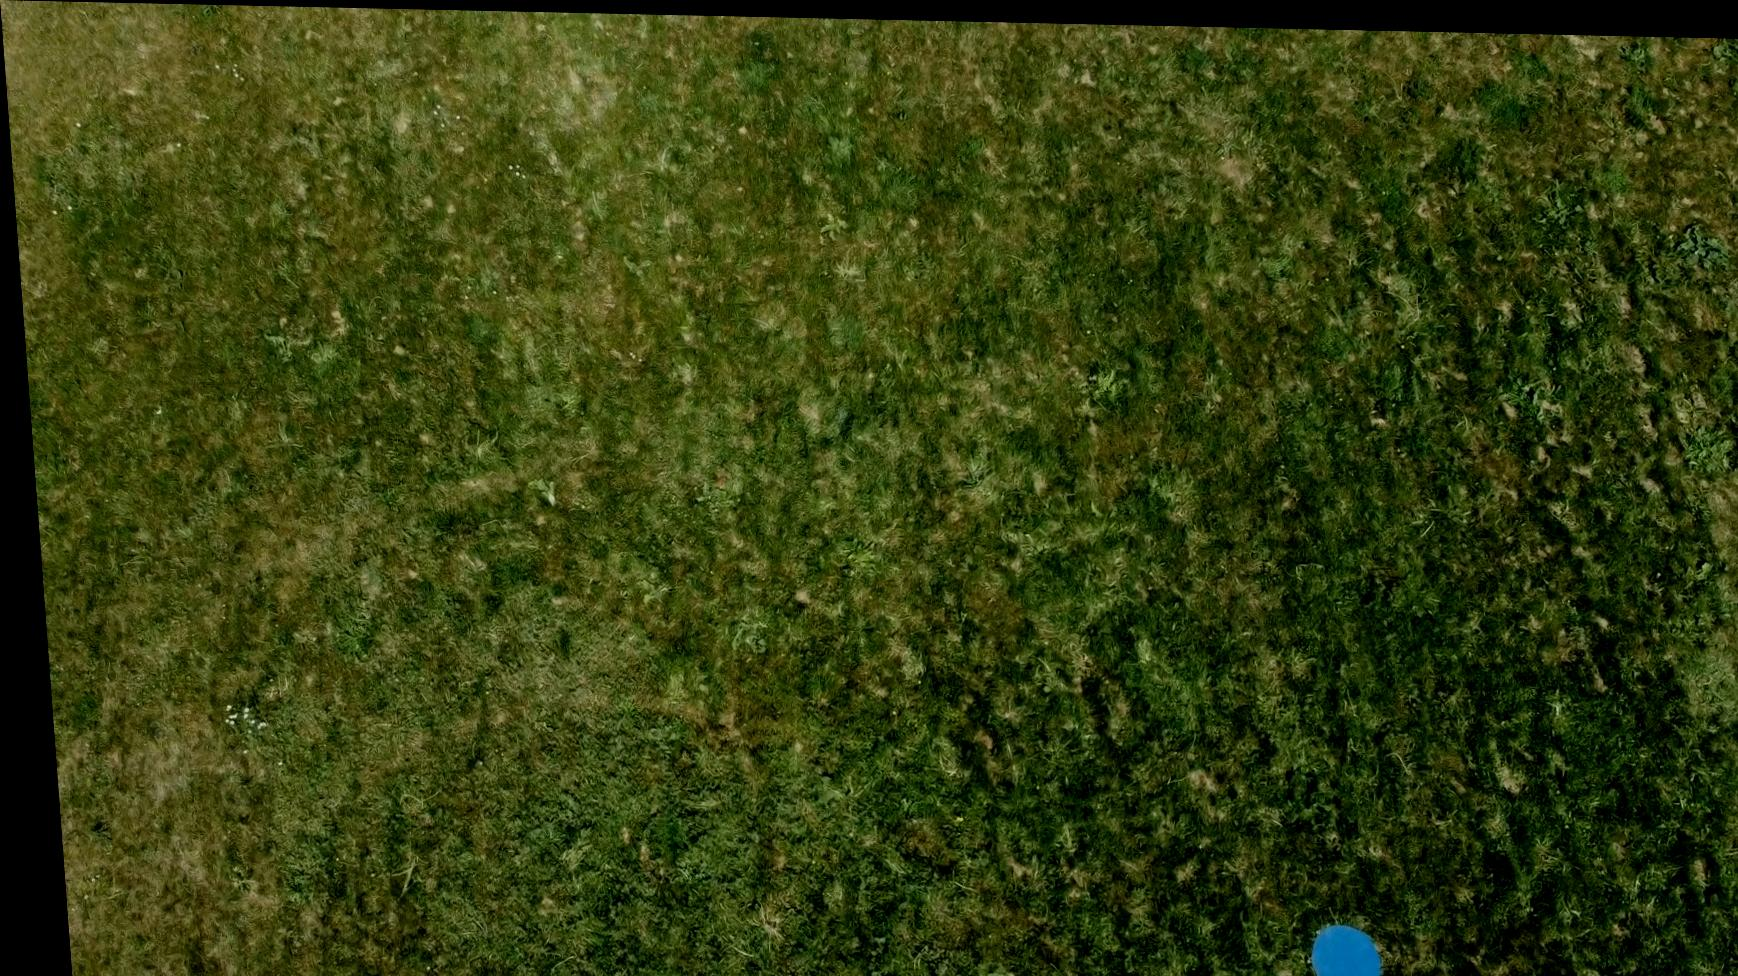Blue: (1293, 916, 1370, 976)
